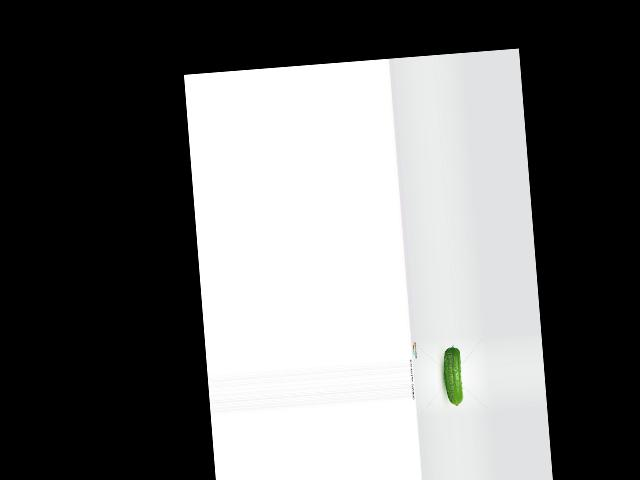cucumber: (442, 344, 464, 407)
